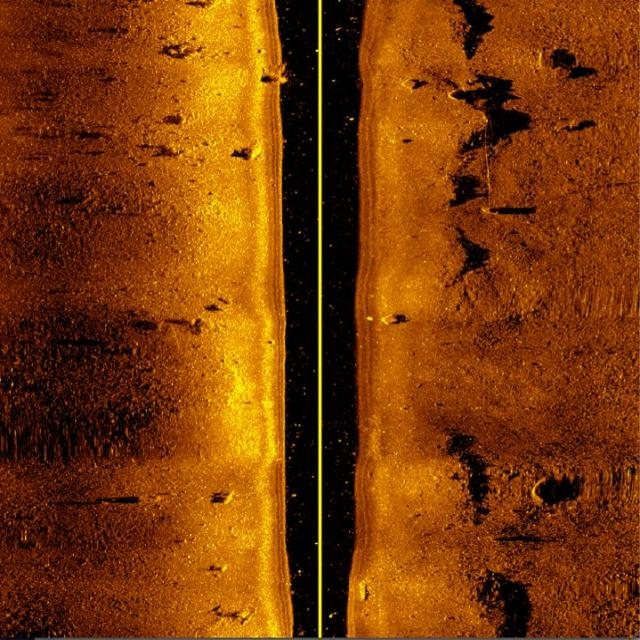other: (431, 430, 496, 542), (410, 220, 502, 299), (526, 450, 564, 520), (230, 125, 270, 178), (376, 303, 408, 334)
